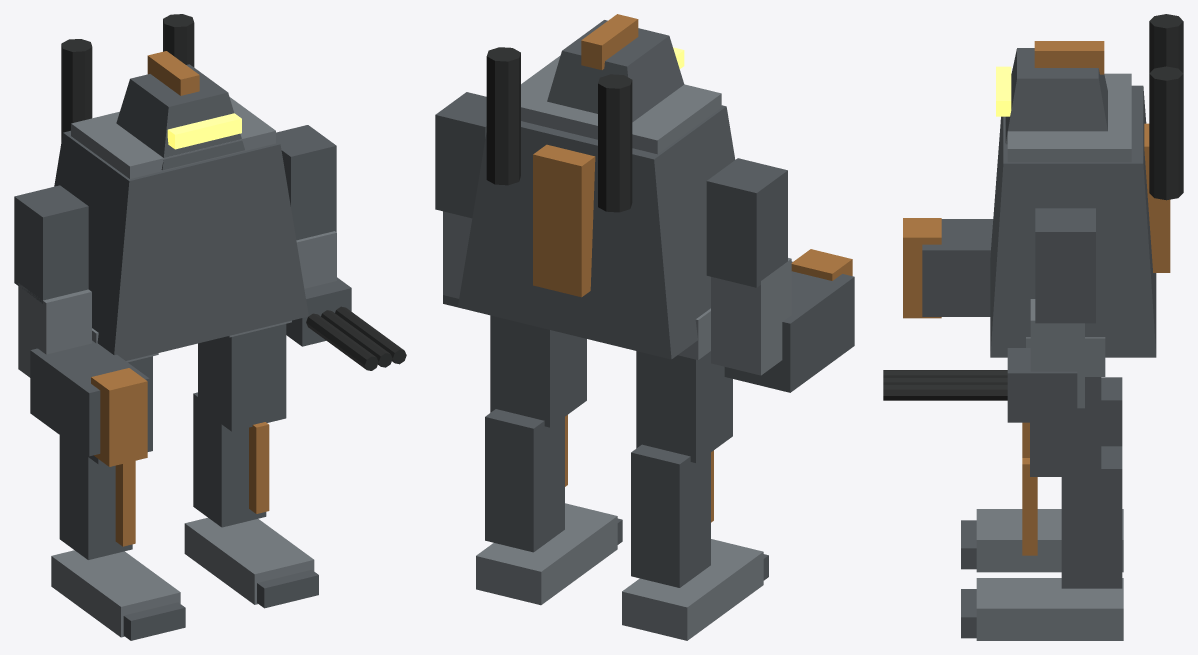
The model's file is titan.glb.
3 views of the same model, side by side, from view 1: azimuth 30°, elevation 25°; view 2: azimuth 150°, elevation 25°; view 3: azimuth 270°, elevation 25° (orthographic). The views are drawn at different scales.
Visible parts, largest first — view 1: hull, thighL, upperarmR, ram, skull, footL, footR, shinL, shinR, upperarmL, collar, ram_tip (+15 smaller); view 2: hull, shinL, shinR, upperarmR, thighR, thighL, spine, footL, footR, ram, forearmR, skull (+8 smaller); view 3: hull, footL, shinL, upperarmL, skull, ram, collar, footR, thighL, stack_l, gunbox, forearmL (+13 smaller).
Part boxes in pixels (<box>): hull: <box>54,130,308,360</box>; thighL: <box>198,324,286,431</box>; upperarmR: <box>14,185,88,303</box>; ram: <box>30,340,149,456</box>; skull: <box>116,64,244,170</box>; footL: <box>184,517,314,604</box>; footR: <box>51,550,180,637</box>; shinL: <box>193,392,266,527</box>; shinR: <box>59,435,132,559</box>; upperarmL: <box>276,125,336,240</box>; collar: <box>71,97,275,178</box>; ram_tip: <box>91,368,147,466</box>; hull: <box>458,105,735,359</box>; shinL: <box>485,409,564,552</box>; shinR: <box>631,444,710,587</box>; upperarmR: <box>706,158,787,287</box>; thighR: <box>636,351,732,462</box>; thighL: <box>490,315,586,427</box>; spine: <box>533,144,595,297</box>; footL: <box>476,503,617,605</box>; footR: <box>622,539,763,640</box>; ram: <box>724,261,854,392</box>; forearmR: <box>711,258,791,375</box>; skull: <box>547,20,684,122</box>; hull: <box>990,85,1156,357</box>; footL: <box>976,578,1123,640</box>; shinL: <box>1061,446,1122,588</box>; upperarmL: <box>1035,208,1095,323</box>; skull: <box>1005,48,1107,144</box>; ram: <box>922,219,993,316</box>; collar: <box>1007,73,1131,162</box>; footR: <box>976,509,1123,572</box>; thighL: <box>1030,377,1101,476</box>; stack_l: <box>1149,66,1183,200</box>; gunbox: <box>1007,348,1077,422</box>; forearmL: <box>1030,299,1084,408</box>.
Size of the model in its own units: 4.77 by 7.76 by 3.87.
